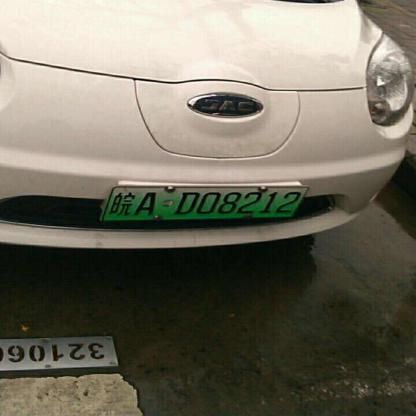lp: (101, 186, 309, 221)
